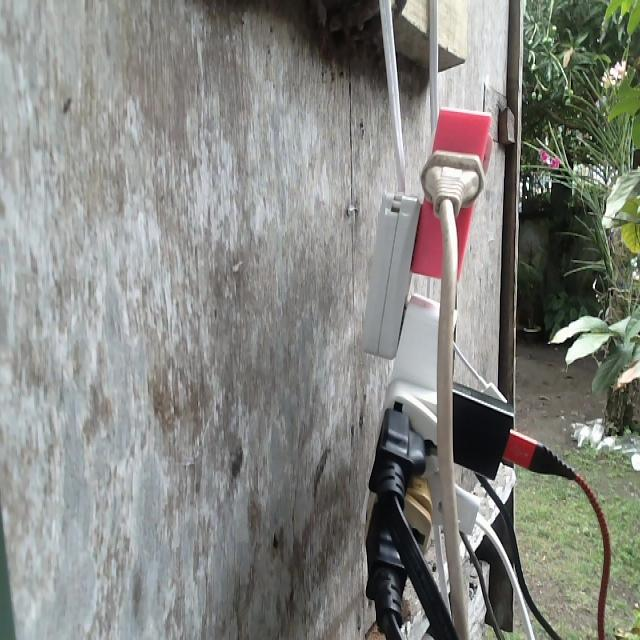-: (352, 104, 536, 616)
